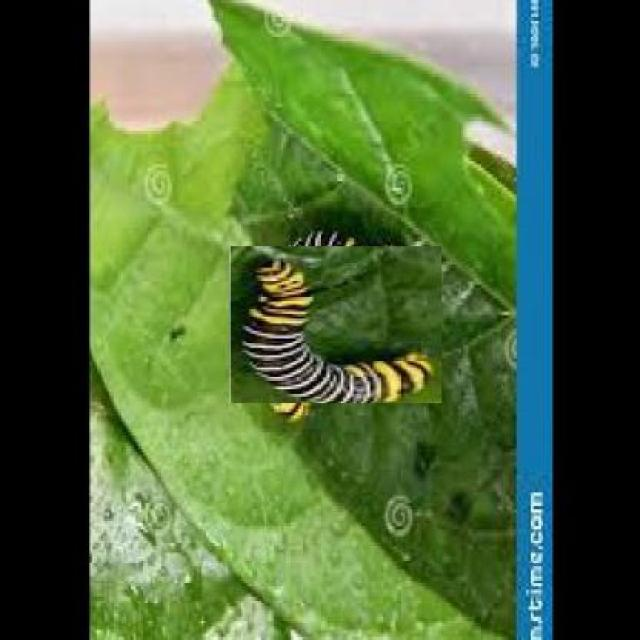Plaga: (244, 233, 432, 420)
